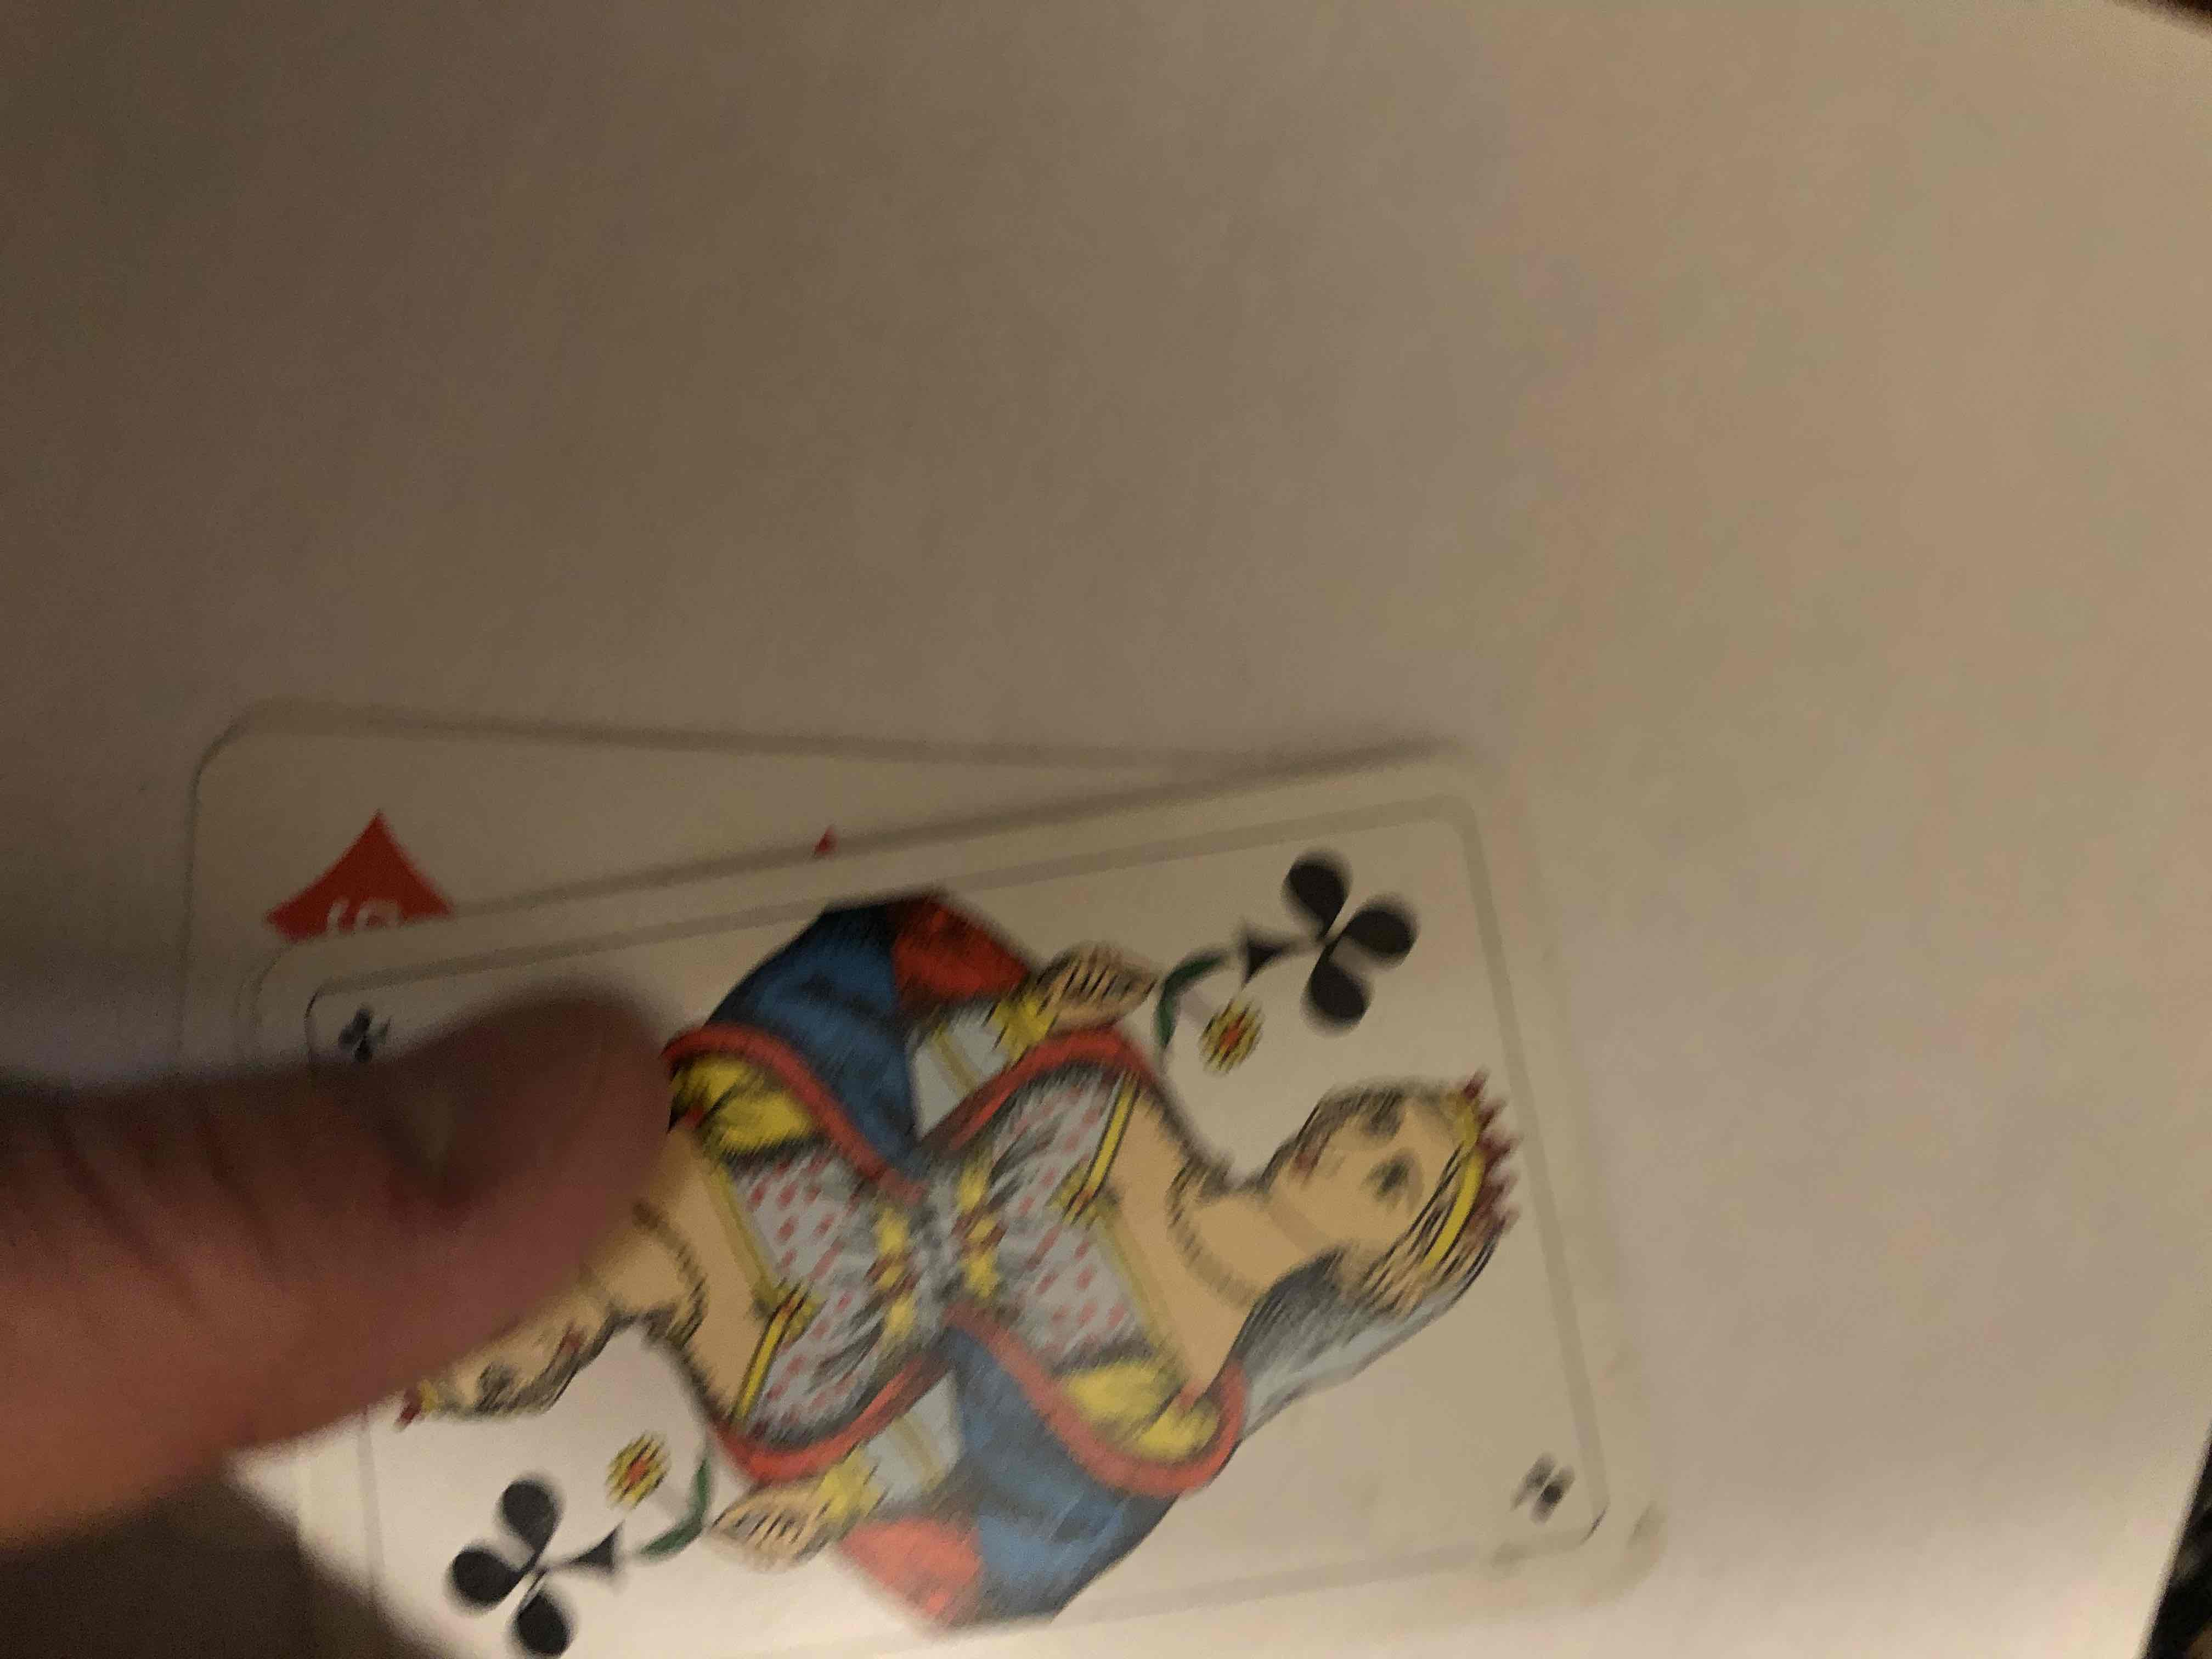clubsQueen: (308, 775, 1554, 1659)
